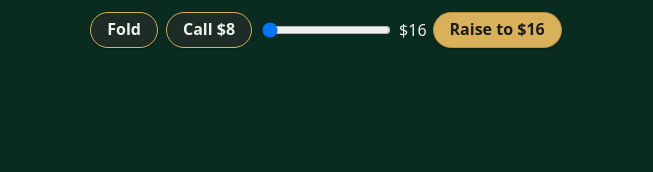
Scenario: ActionBar › a full-stack RAISE also says 'All-in' (iter-23 MINOR #2)
The image size is (653, 172).
Set the slider to "100". click: (383, 30)
box: [262,22,391,38]
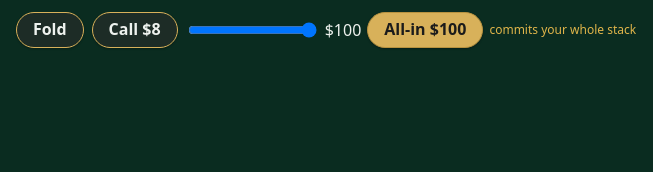
expect the button "All-in $100" is shown: met, box [367,12,483,48]
expect the button "Raise to" is gone: met
